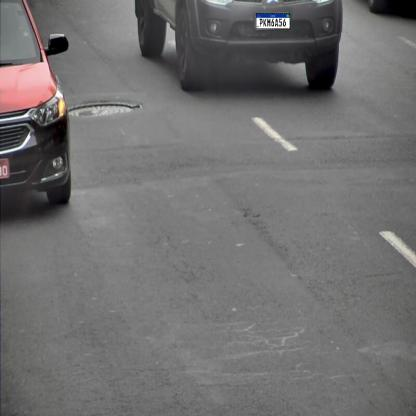PlacaM: (256, 13, 290, 29)
